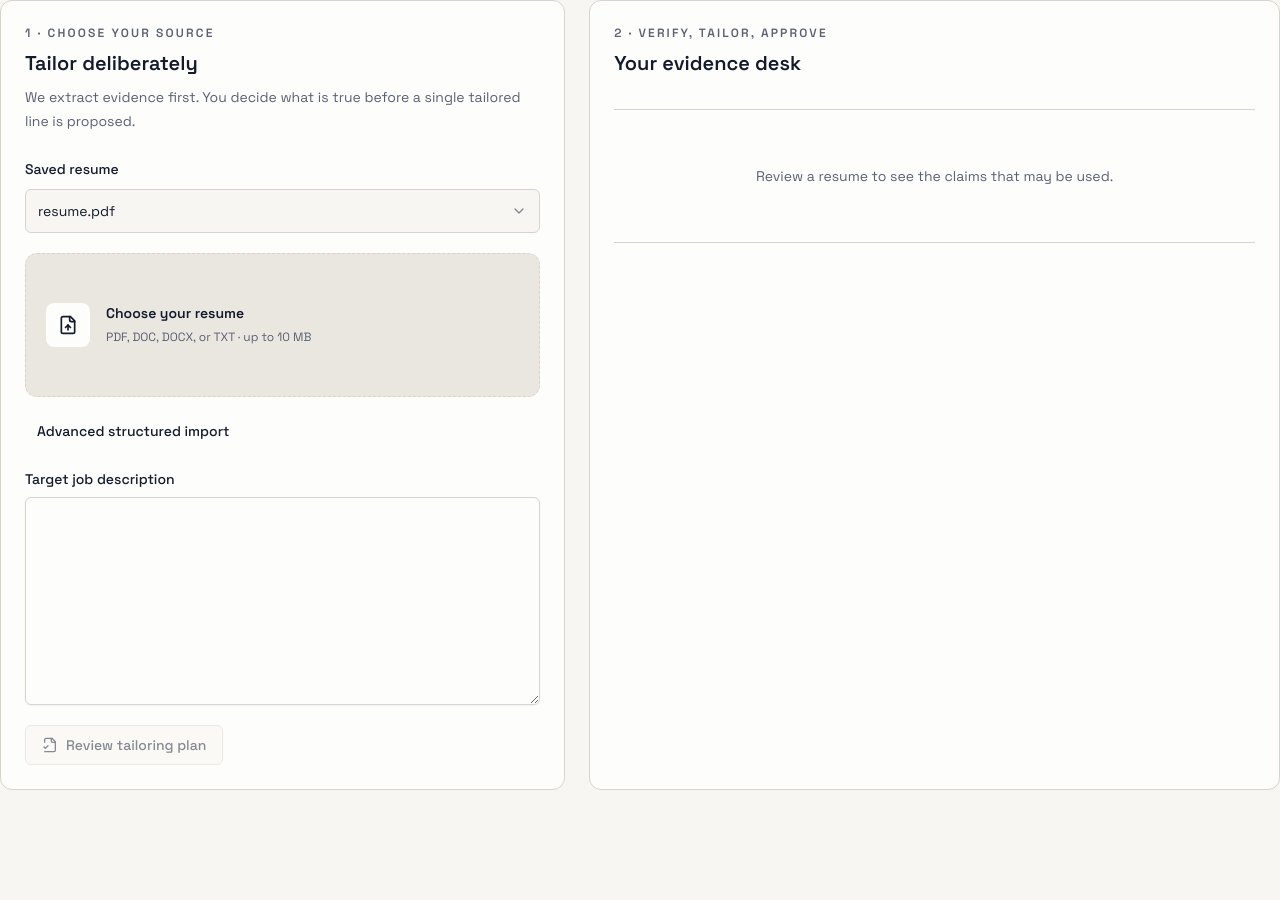
Test: does not start tailoring until the reviewed plan is explicitly confirmed
Type "A complete senior data engineering job description" into the text box labelled "Target job description" at [283, 601], box x1=25 y1=497 x2=540 y2=705
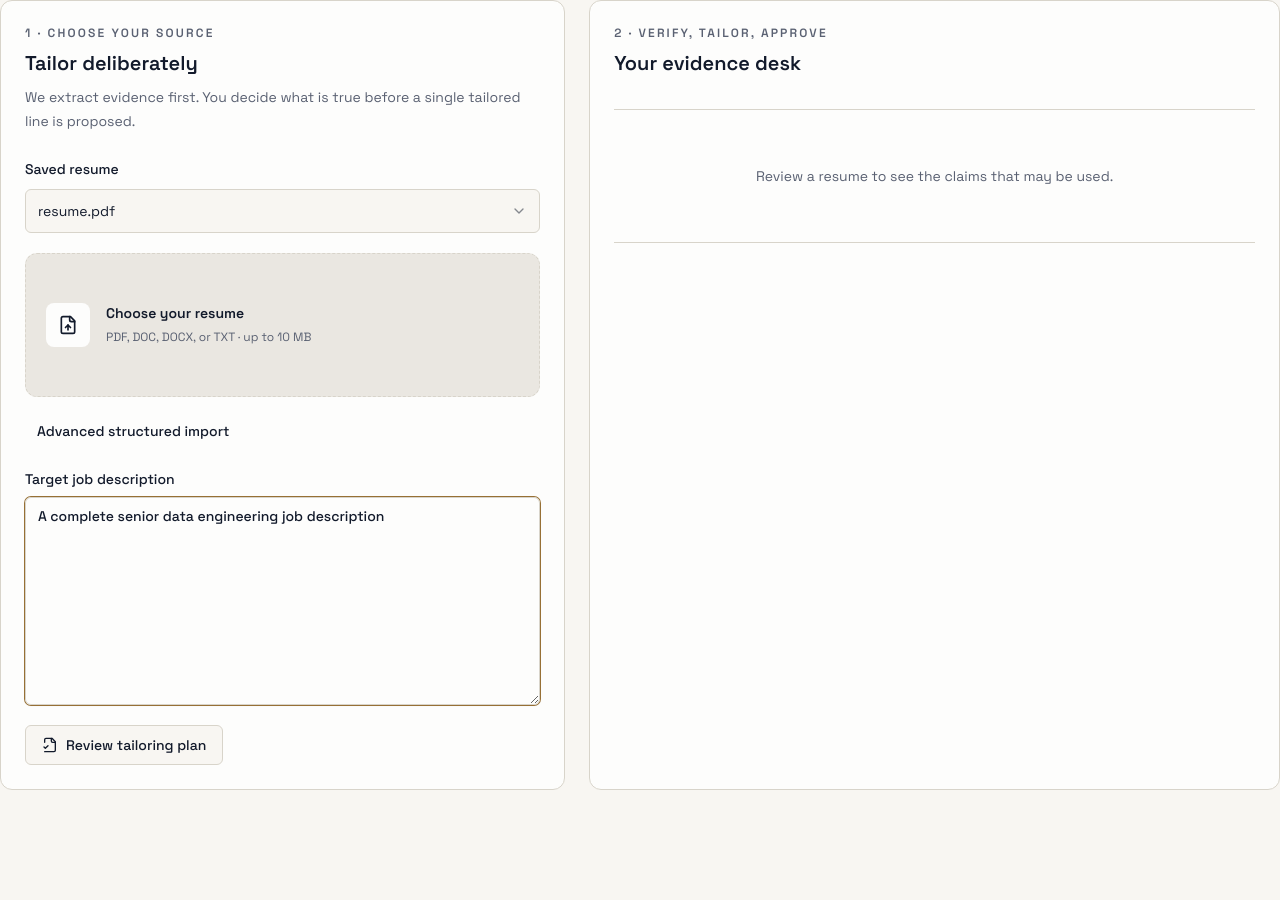
Click the button "Review tailoring plan" at [124, 745], box x1=25 y1=725 x2=223 y2=765
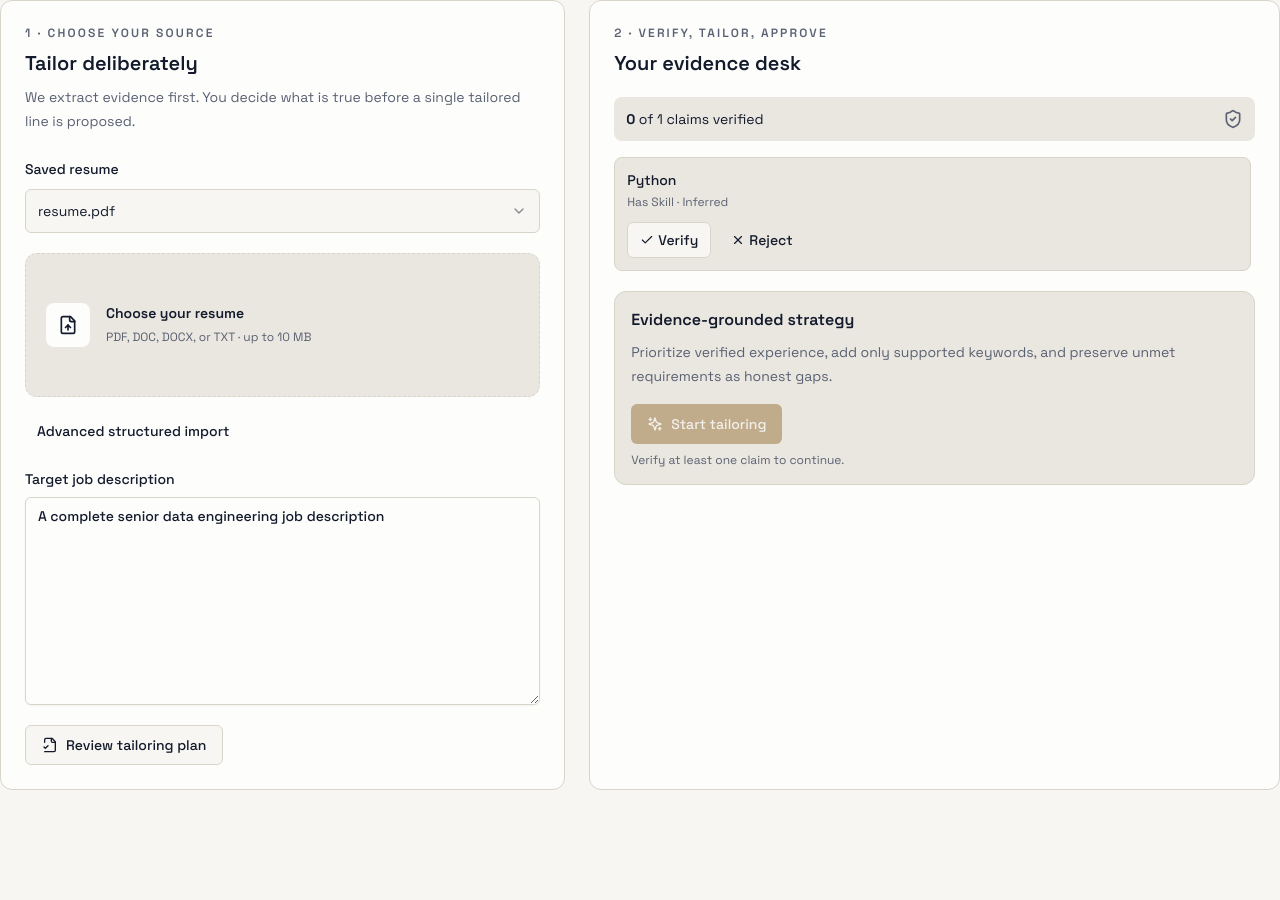
Click the button "Verify" at [669, 240], box x1=627 y1=222 x2=711 y2=258
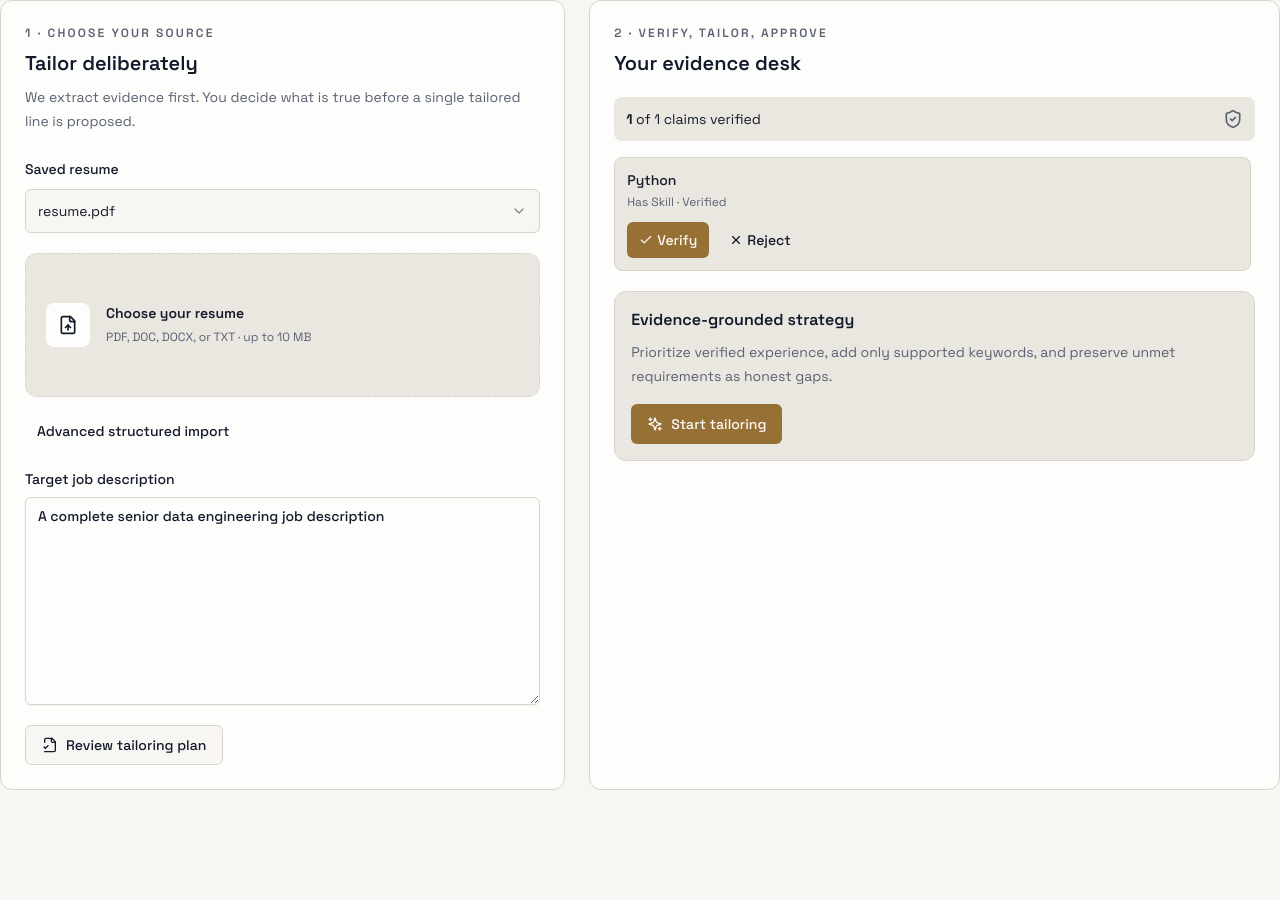
Click the button "Start tailoring" at [707, 424], box x1=631 y1=404 x2=782 y2=444
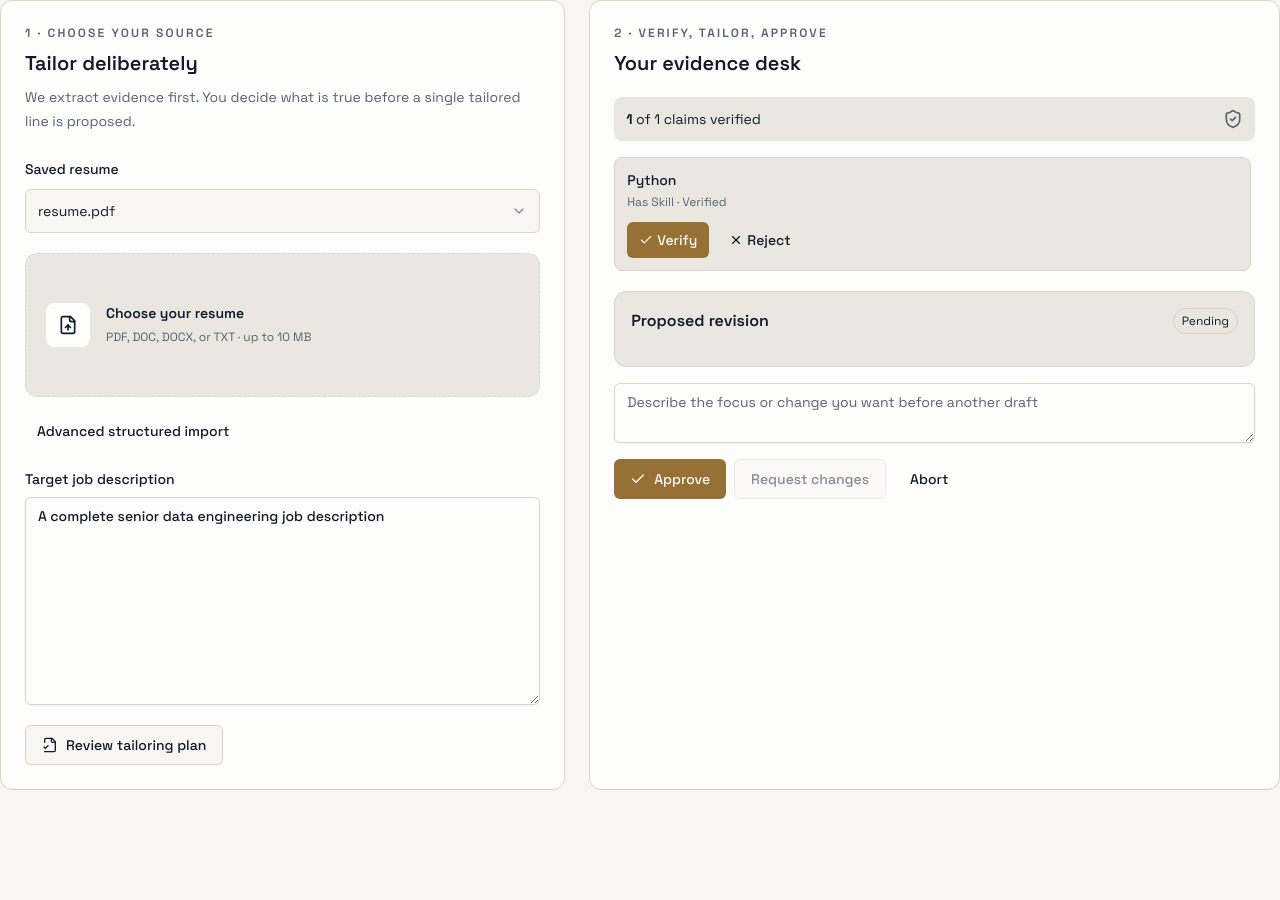
Type "Focus on platform ownership" into the text box named "Revision note" at [935, 413], box x1=614 y1=383 x2=1255 y2=443
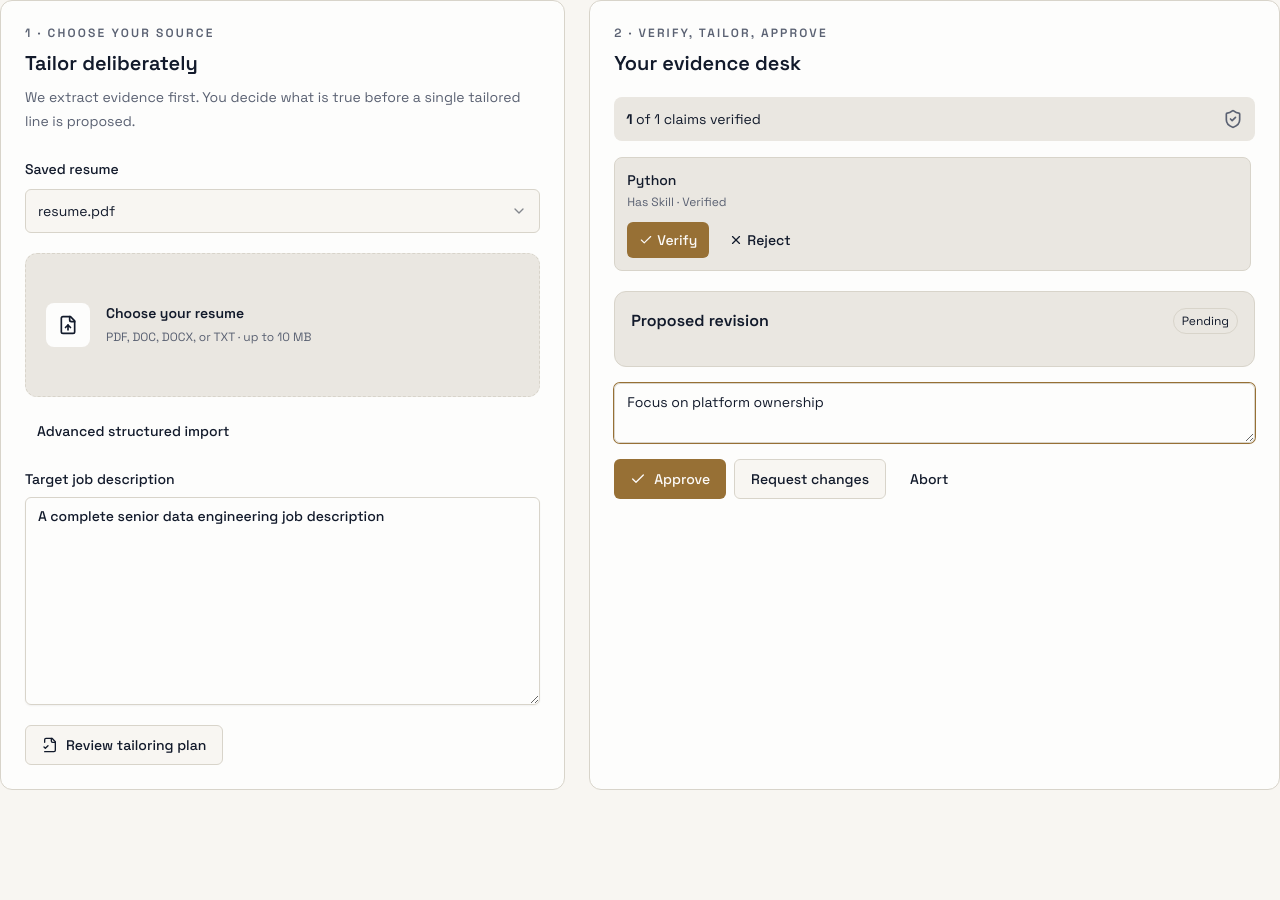
Click the button "Request changes" at [810, 479], box x1=734 y1=459 x2=886 y2=499
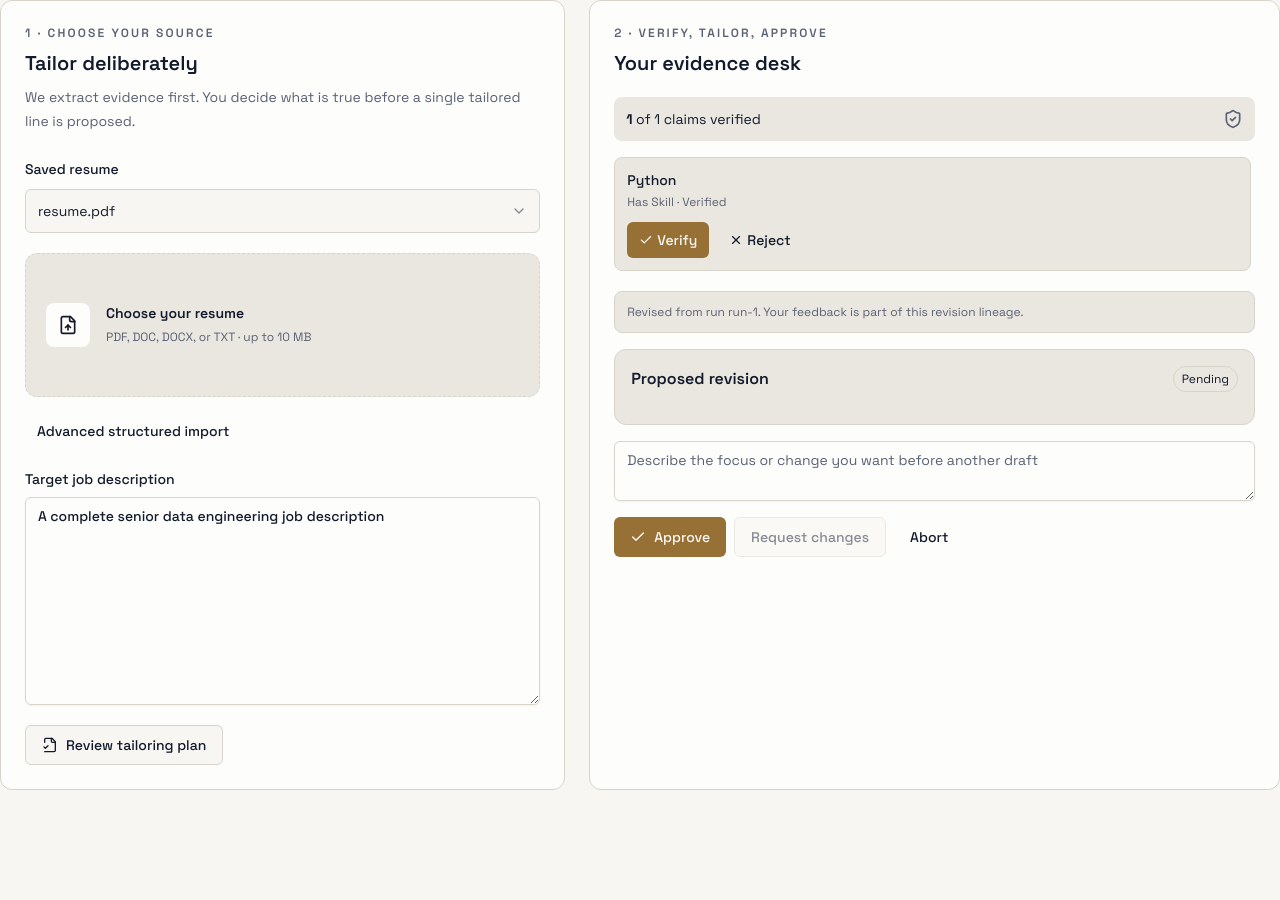
Expected: the text "Revised from run run-1" is shown, x1=614 y1=291 x2=1255 y2=333
